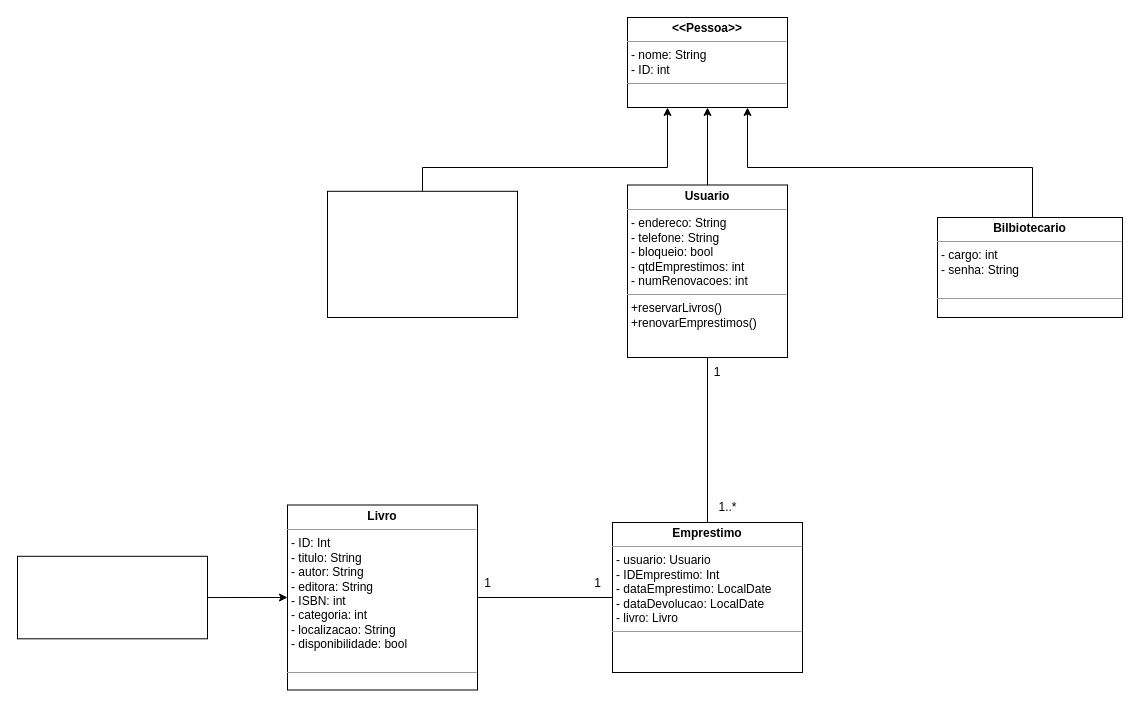
Image size: 1140x708. Some labels were removed from this diagram. The shapes that lost their labels are listed below. From the top down, each one's centre as x and y in pixels, then its label:
point (422, 254): Administrador - cargo: int - senha: String +gerarRelatorio()
point (112, 597): Pesquisa
